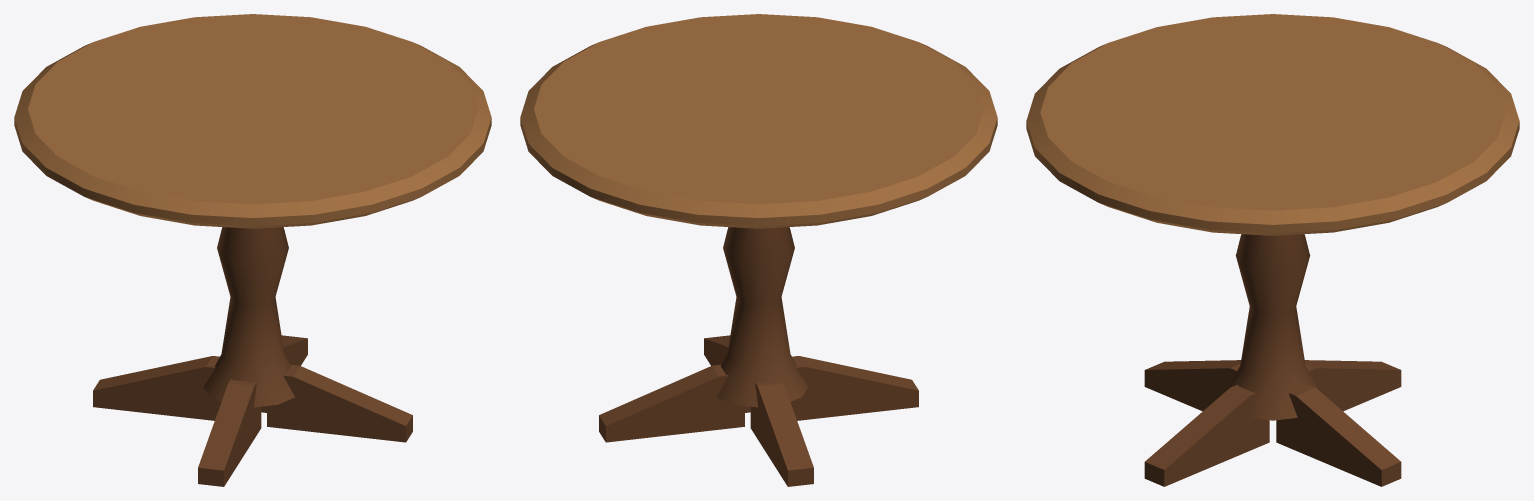
File: round-table.glb
3 views of the same model, side by side, from view 1: azimuth 30°, elevation 25°; view 2: azimuth 150°, elevation 25°; view 3: azimuth 270°, elevation 25° (orthographic). The views are drawn at different scales.
Visible parts, largest first — view 1: Round table top, Round table feet, Round table pedestal; view 2: Round table top, Round table feet, Round table pedestal; view 3: Round table top, Round table feet, Round table pedestal.
Boxes of the visible parts, bbox=[...] form: Round table top: bbox=[14, 14, 491, 228]; Round table feet: bbox=[93, 335, 412, 486]; Round table pedestal: bbox=[204, 227, 294, 407]; Round table top: bbox=[520, 14, 997, 228]; Round table feet: bbox=[599, 335, 918, 486]; Round table pedestal: bbox=[717, 227, 807, 407]; Round table top: bbox=[1026, 14, 1519, 235]; Round table feet: bbox=[1144, 360, 1401, 486]; Round table pedestal: bbox=[1226, 234, 1319, 420].
Bounding box in the file's own units: 1.06 × 0.76 × 1.06.
